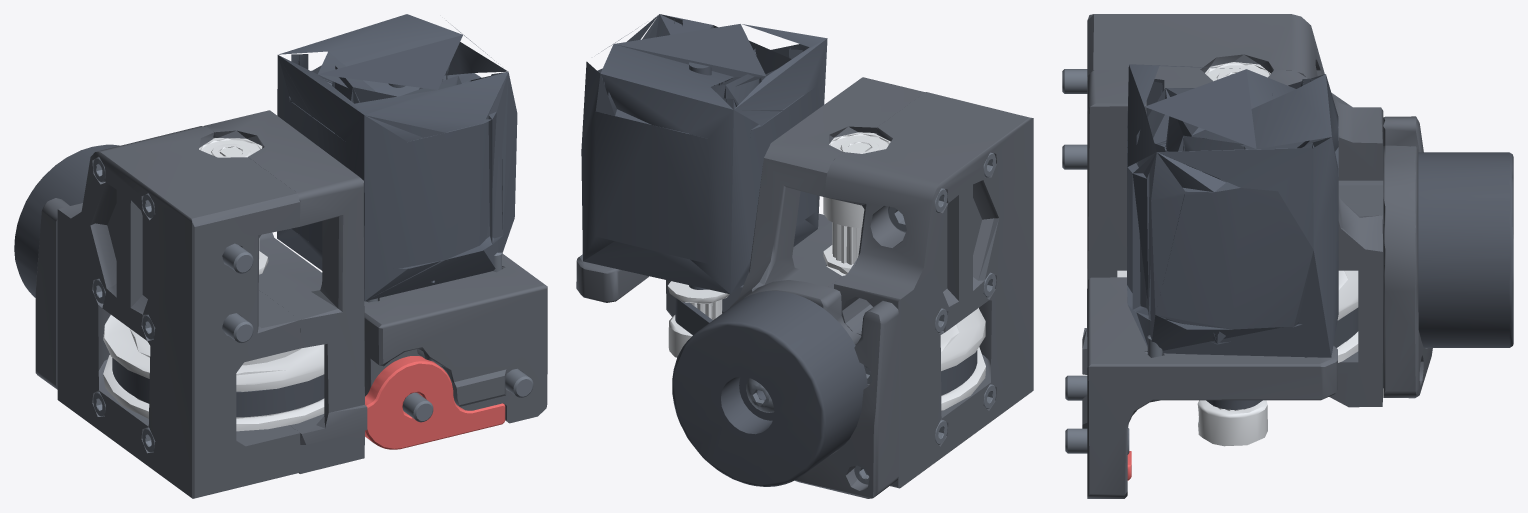
3 renders of one model, left to right at view 1: azimuth 30°, elevation 25°; view 2: azimuth 150°, elevation 25°; view 3: azimuth 270°, elevation 25°, orthographic. The views are drawn at different scales.
Visible parts, largest first — view 1: compound, nema17_stepper__2_, compound_50, z_motor_mount__2_, belt_tensioner__2_, gt2_80t_pulley_powge__2_, rubber_foot, solid, gt2_188mm_belt_loop__2_, 625_2rs__7_, m5x40_shcs__18_, m5x40_shcs__19_ (+2 smaller); view 2: nema17_stepper__2_, compound, rubber_foot, compound_50, solid, gt2_80t_pulley_powge__2_, z_motor_mount__2_, gt2_20t_9mm__1_, gt2_188mm_belt_loop__2_, gt2_16t__2_, 625_2rs__7_, m5x16_bhcs__16_; view 3: nema17_stepper__2_, z_motor_mount__2_, rubber_foot, compound_50, compound, solid, gt2_16t__2_, gt2_80t_pulley_powge__2_, gt2_188mm_belt_loop__2_, 625_2rs__7_, m5x40_shcs__18_, m5x10_bhcs__22_ (+2 smaller).
Part boxes in pixels (x1,y1,x2,y2): compound: [57, 126, 300, 498]; nema17_stepper__2_: [277, 14, 517, 301]; compound_50: [204, 110, 367, 473]; z_motor_mount__2_: [364, 253, 547, 443]; belt_tensioner__2_: [365, 356, 505, 449]; gt2_80t_pulley_powge__2_: [103, 315, 324, 431]; rubber_foot: [14, 144, 119, 297]; solid: [35, 198, 69, 389]; gt2_188mm_belt_loop__2_: [112, 358, 324, 417]; 625_2rs__7_: [199, 138, 262, 157]; m5x40_shcs__18_: [222, 313, 253, 342]; m5x40_shcs__19_: [222, 243, 253, 273]; nema17_stepper__2_: [581, 14, 827, 294]; compound: [824, 92, 1033, 488]; rubber_foot: [672, 291, 867, 486]; compound_50: [730, 77, 924, 307]; solid: [744, 280, 898, 498]; gt2_80t_pulley_powge__2_: [940, 308, 985, 410]; z_motor_mount__2_: [576, 213, 830, 316]; gt2_20t_9mm__1_: [823, 197, 864, 273]; gt2_188mm_belt_loop__2_: [675, 285, 977, 395]; gt2_16t__2_: [668, 281, 729, 357]; 625_2rs__7_: [829, 132, 890, 153]; m5x16_bhcs__16_: [746, 378, 774, 412]; nema17_stepper__2_: [1127, 64, 1338, 357]; z_motor_mount__2_: [1082, 277, 1337, 498]; rubber_foot: [1418, 152, 1513, 347]; compound_50: [1082, 70, 1383, 407]; compound: [1087, 14, 1383, 205]; solid: [1383, 116, 1432, 398]; gt2_16t__2_: [1197, 400, 1267, 446]; gt2_80t_pulley_powge__2_: [1117, 270, 1358, 362]; gt2_188mm_belt_loop__2_: [1206, 307, 1358, 409]; 625_2rs__7_: [1205, 62, 1270, 81]; m5x40_shcs__18_: [1062, 144, 1087, 169]; m5x10_bhcs__22_: [1065, 427, 1129, 454].
Bounding box in the file's own units: 0.0898 × 0.0777 × 0.09.
